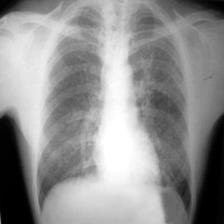tuberculosis: (29, 1, 197, 224)
